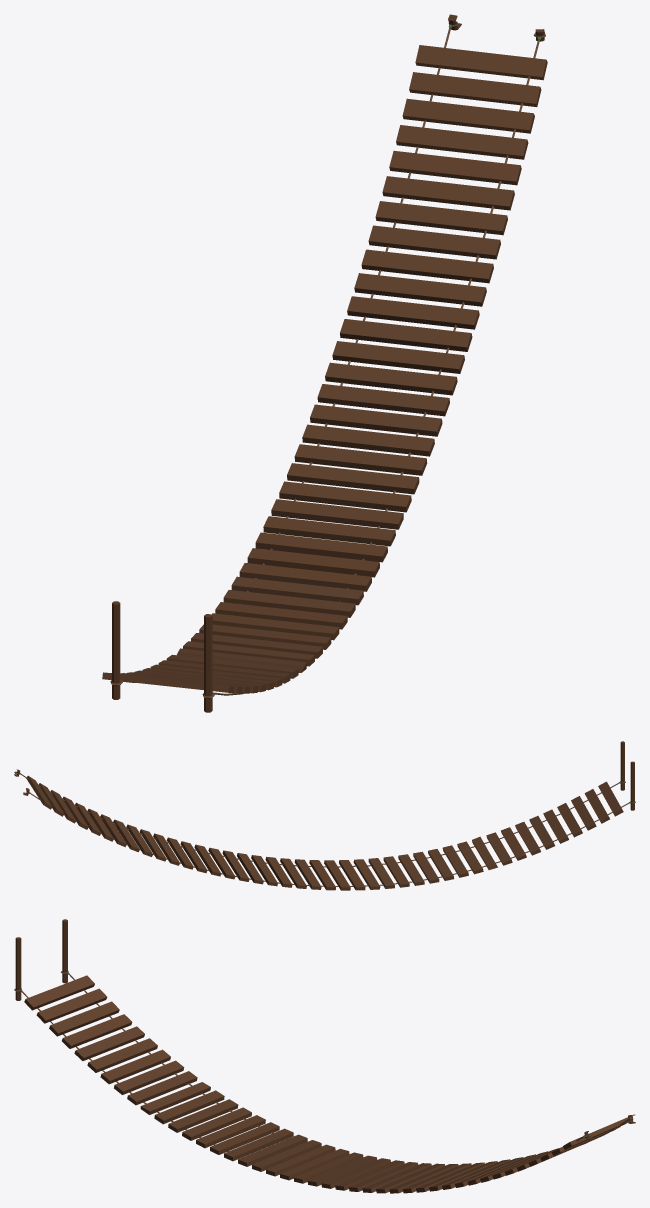
The model's file is obj_suspensionBridge.fbx.
The picture shows the model from 3 angles, top to bottom: view 1: azimuth 30°, elevation 25°; view 2: azimuth 150°, elevation 25°; view 3: azimuth 270°, elevation 25°; orthographic projection. The views are drawn at different scales.
Visible parts, largest first — view 1: obj_suspensionBridge; view 2: obj_suspensionBridge; view 3: obj_suspensionBridge.
Boxes of the visible parts, x1,y1,x2,y2 form: obj_suspensionBridge: [102, 14, 547, 712]; obj_suspensionBridge: [14, 741, 635, 890]; obj_suspensionBridge: [14, 919, 635, 1193].
Bounding box in the file's own units: 28.25 × 8.72 × 28.01.
